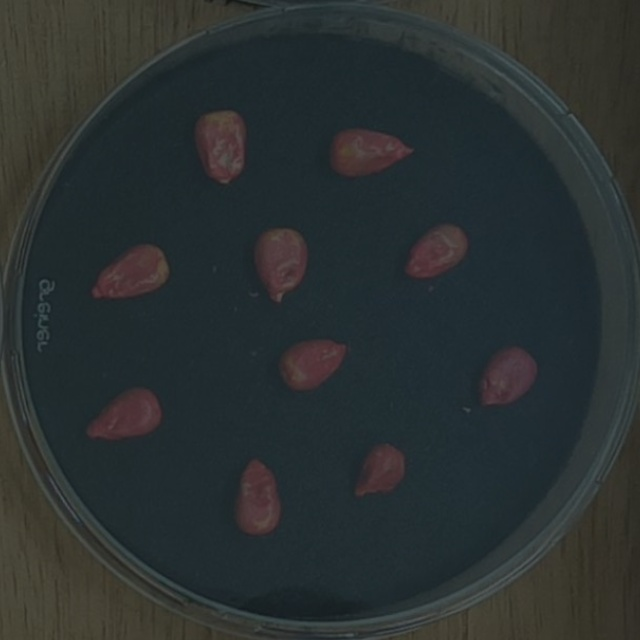Zea mays: (83, 234, 176, 308), (321, 119, 418, 188), (77, 378, 168, 450), (244, 219, 313, 312), (270, 330, 357, 402), (395, 213, 477, 288), (469, 339, 545, 417), (186, 104, 254, 188), (226, 450, 286, 541), (343, 435, 412, 506)
